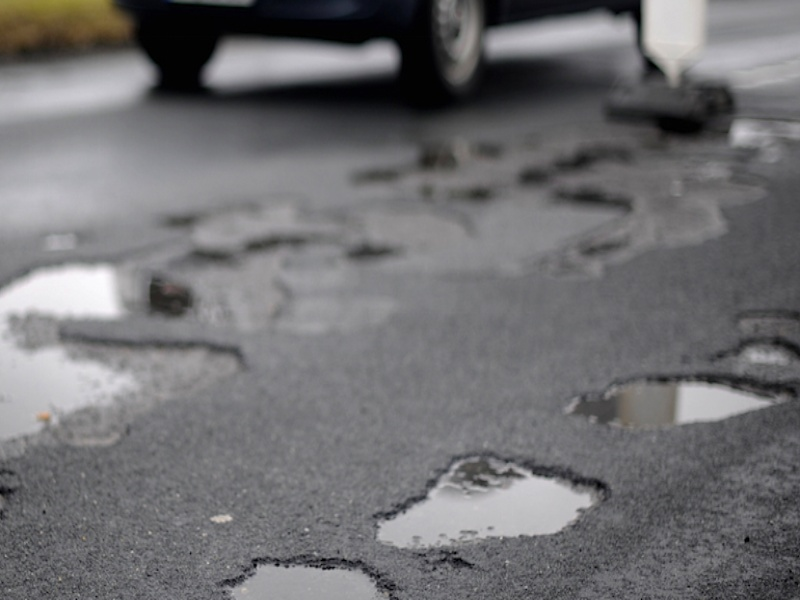pothole: (379, 447, 614, 547), (576, 370, 793, 431), (206, 543, 416, 600)
